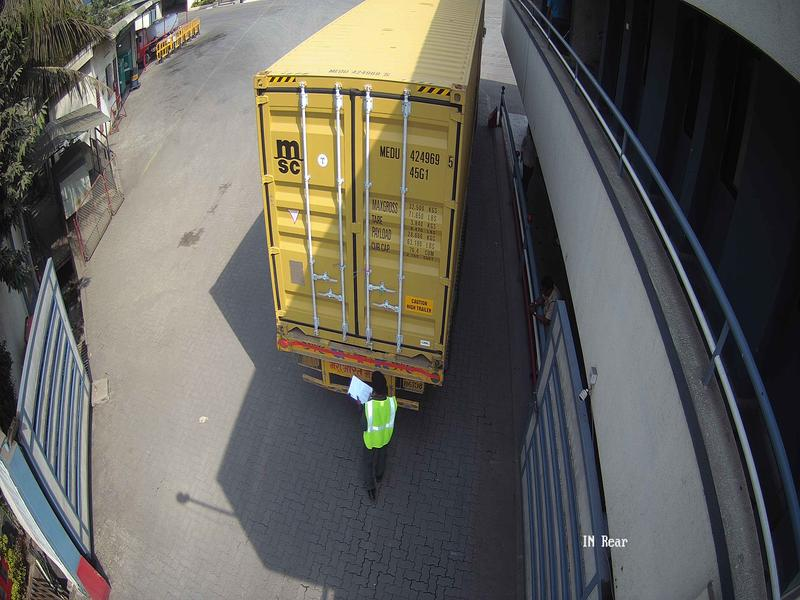container: (254, 72, 474, 378)
